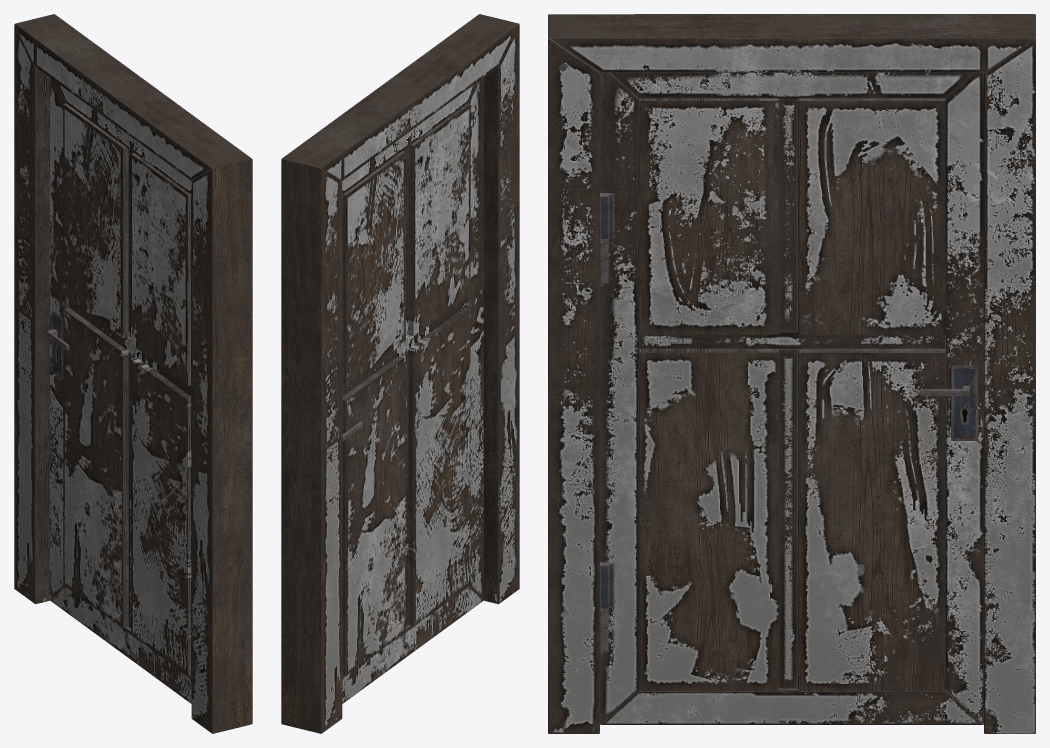
Rendered from SM_BP_DoorSingleClosed_Left_v1.fbx.
3 views of the same model, side by side, from view 1: azimuth 30°, elevation 25°; view 2: azimuth 150°, elevation 25°; view 3: azimuth 270°, elevation 25° (orthographic). The views are drawn at different scales.
Visible parts, largest first — view 1: SM_BP_DoorSingleClosed_Green_v1_LOD0; view 2: SM_BP_DoorSingleClosed_Green_v1_LOD0; view 3: SM_BP_DoorSingleClosed_Green_v1_LOD0.
Boxes of the visible parts, box(x1,y1,x2,y2) form: SM_BP_DoorSingleClosed_Green_v1_LOD0: box(14, 14, 252, 733); SM_BP_DoorSingleClosed_Green_v1_LOD0: box(281, 14, 519, 733); SM_BP_DoorSingleClosed_Green_v1_LOD0: box(548, 14, 1035, 733).
Bounding box in the file's own units: 15 × 127 × 200.
